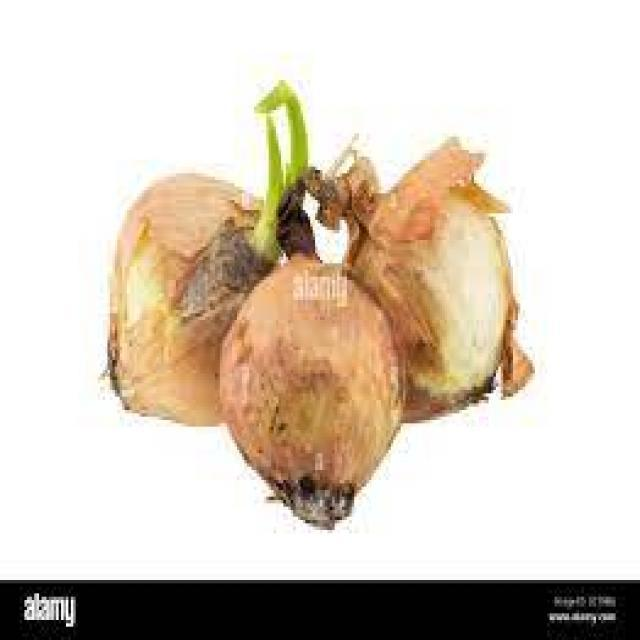Onion: (219, 179, 410, 531), (310, 133, 537, 426), (97, 169, 322, 429), (248, 78, 309, 261)
